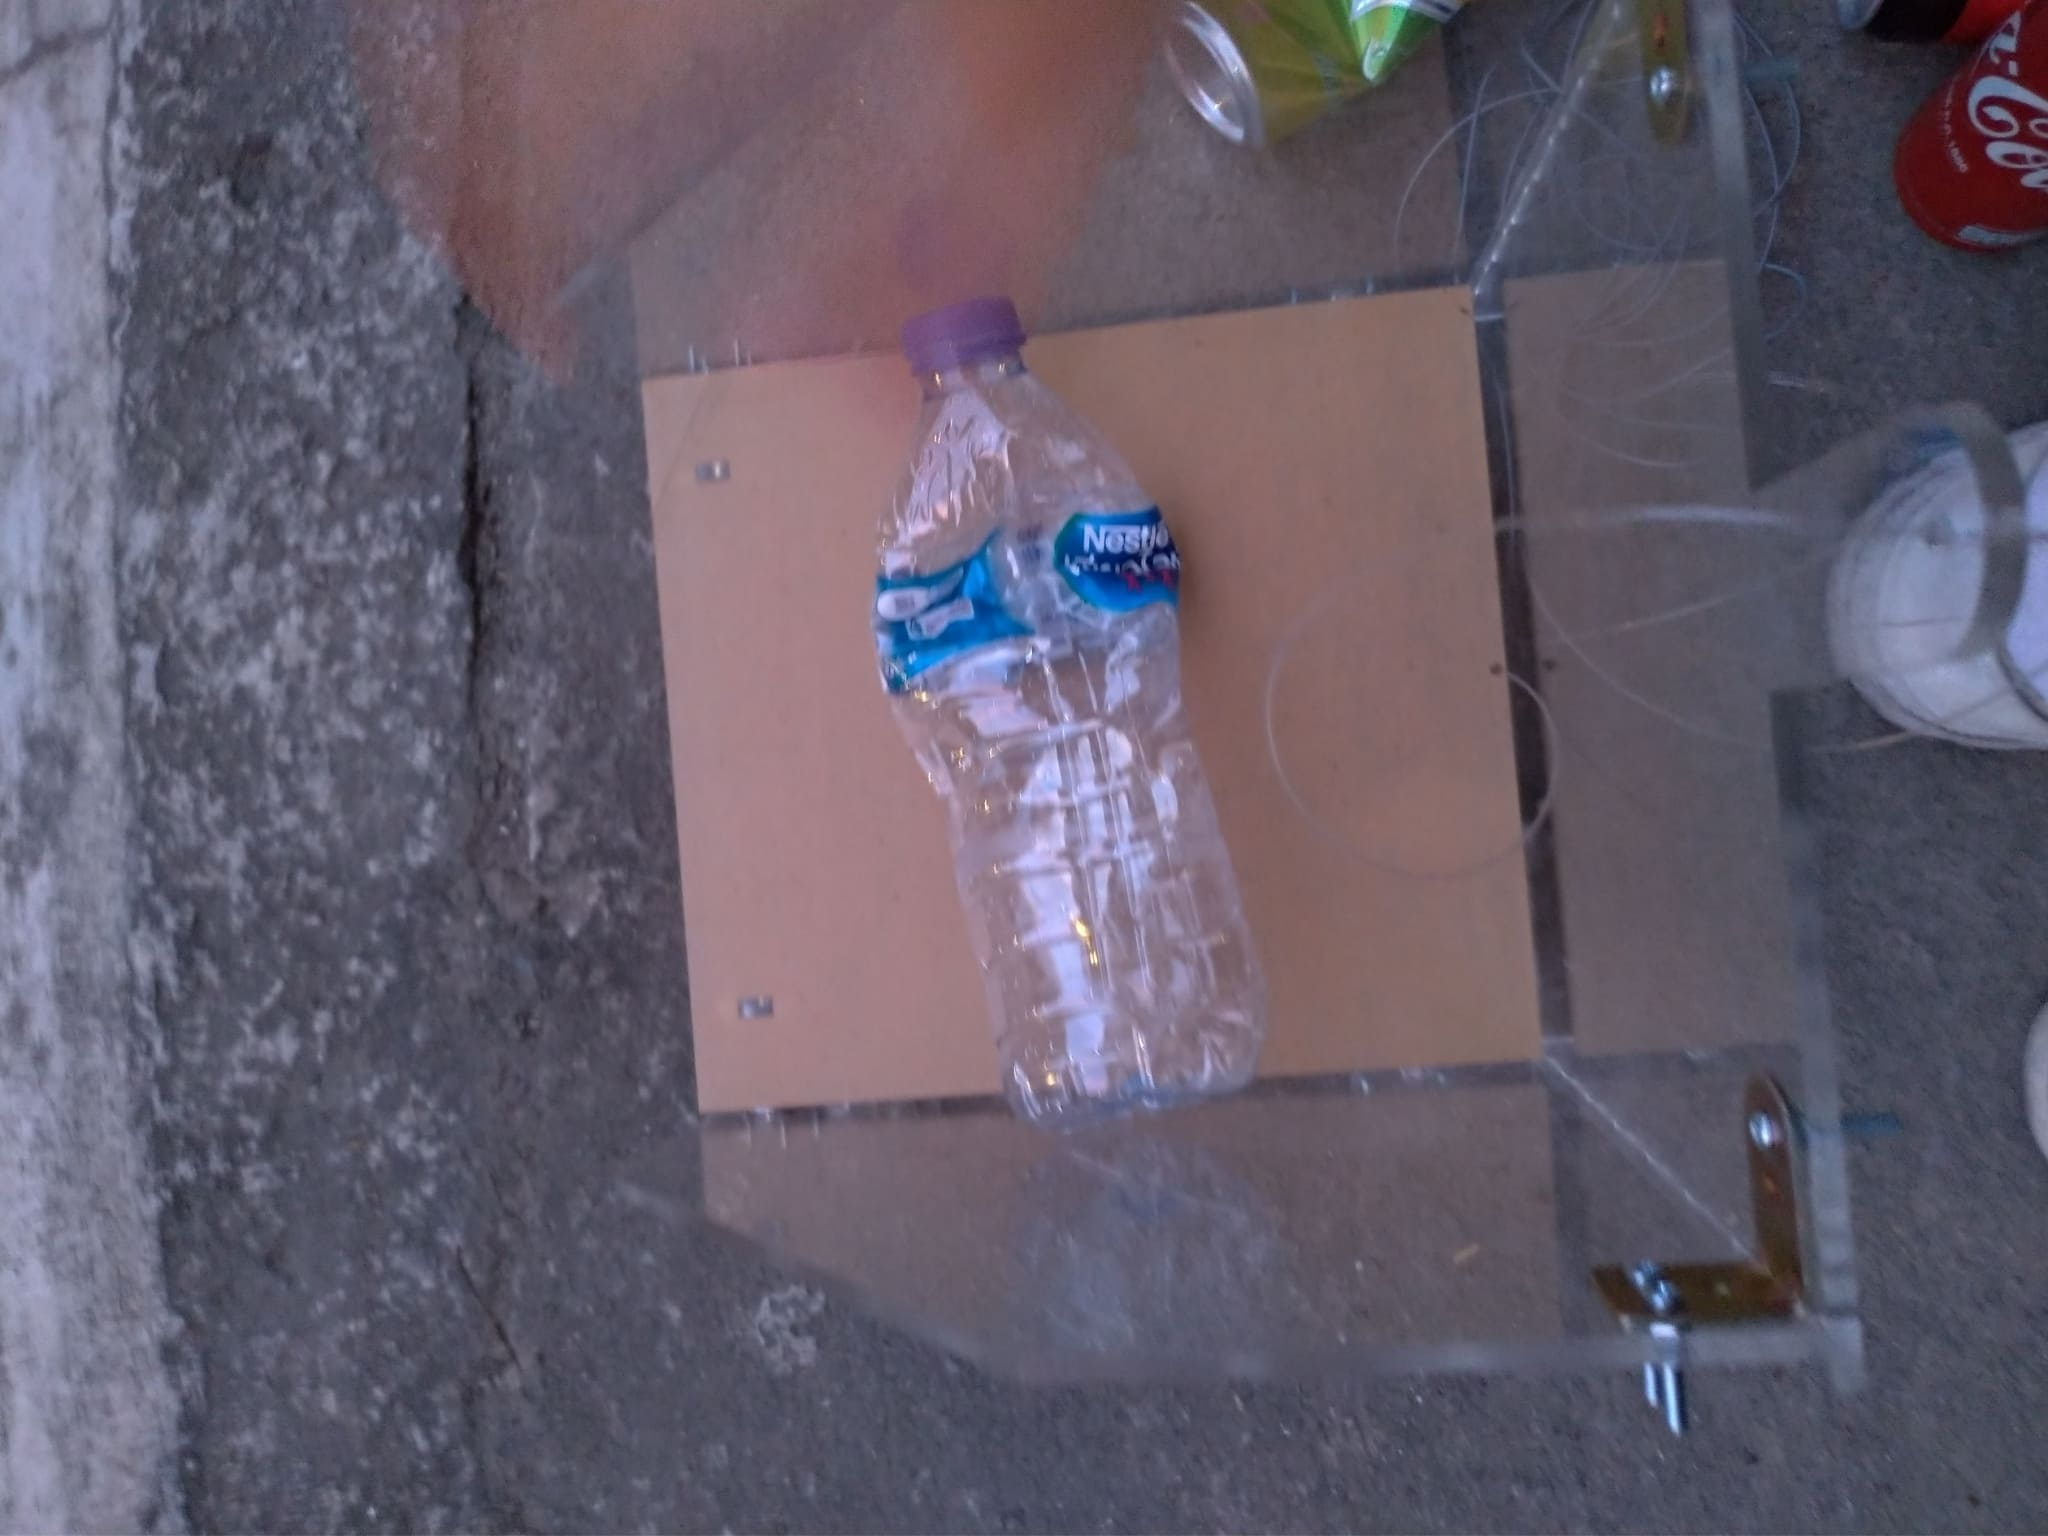AlCan: (1156, 2, 1487, 150), (1895, 6, 2048, 260)
PlasticBottle: (866, 303, 1247, 1133)
